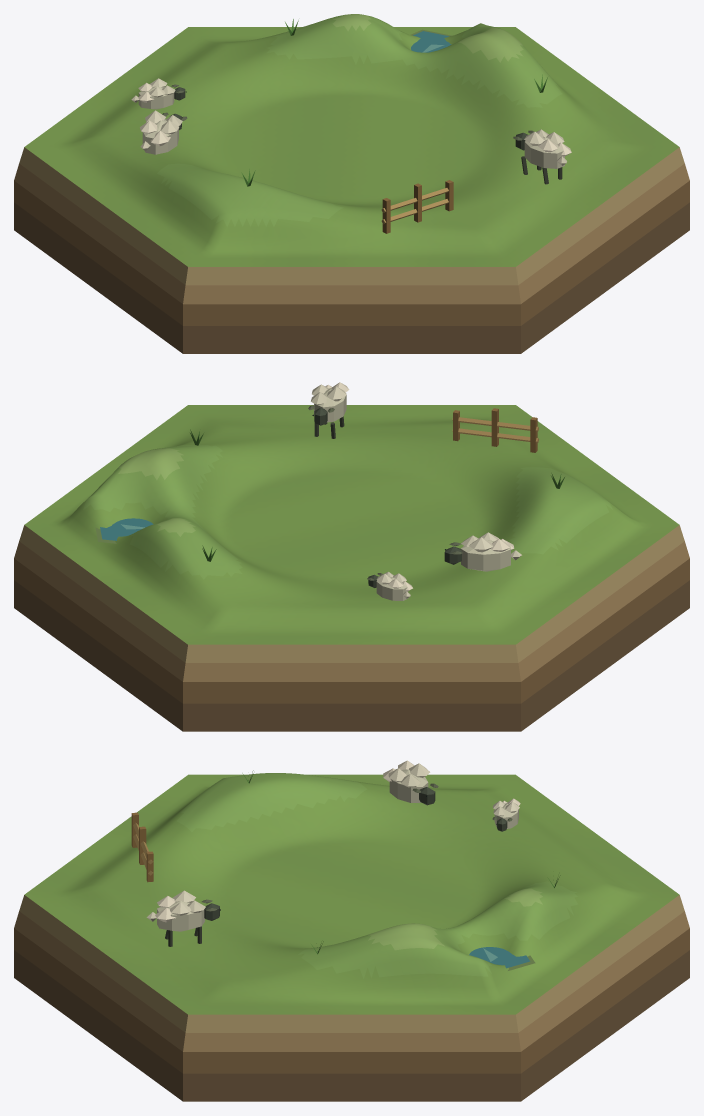
File: catan_terrain_sheep_02.glb
The picture shows the model from 3 angles, top to bottom: view 1: azimuth 30°, elevation 25°; view 2: azimuth 150°, elevation 25°; view 3: azimuth 270°, elevation 25°; orthographic projection.
Parts seen in each view (by area): view 1: catan_terrain_sheep_02_ground, catan_terrain_sheep_02_decoration; view 2: catan_terrain_sheep_02_ground, catan_terrain_sheep_02_decoration; view 3: catan_terrain_sheep_02_ground, catan_terrain_sheep_02_decoration.
Boxes of the visible parts, left/top/right/bottom form: catan_terrain_sheep_02_ground: left=14, top=14, right=689, bottom=353; catan_terrain_sheep_02_decoration: left=131, top=19, right=571, bottom=233; catan_terrain_sheep_02_ground: left=14, top=405, right=689, bottom=731; catan_terrain_sheep_02_decoration: left=95, top=382, right=564, bottom=600; catan_terrain_sheep_02_ground: left=14, top=773, right=689, bottom=1101; catan_terrain_sheep_02_decoration: left=131, top=760, right=560, bottom=970.
Bounding box in the file's own units: 1.71 × 0.437 × 1.97.
